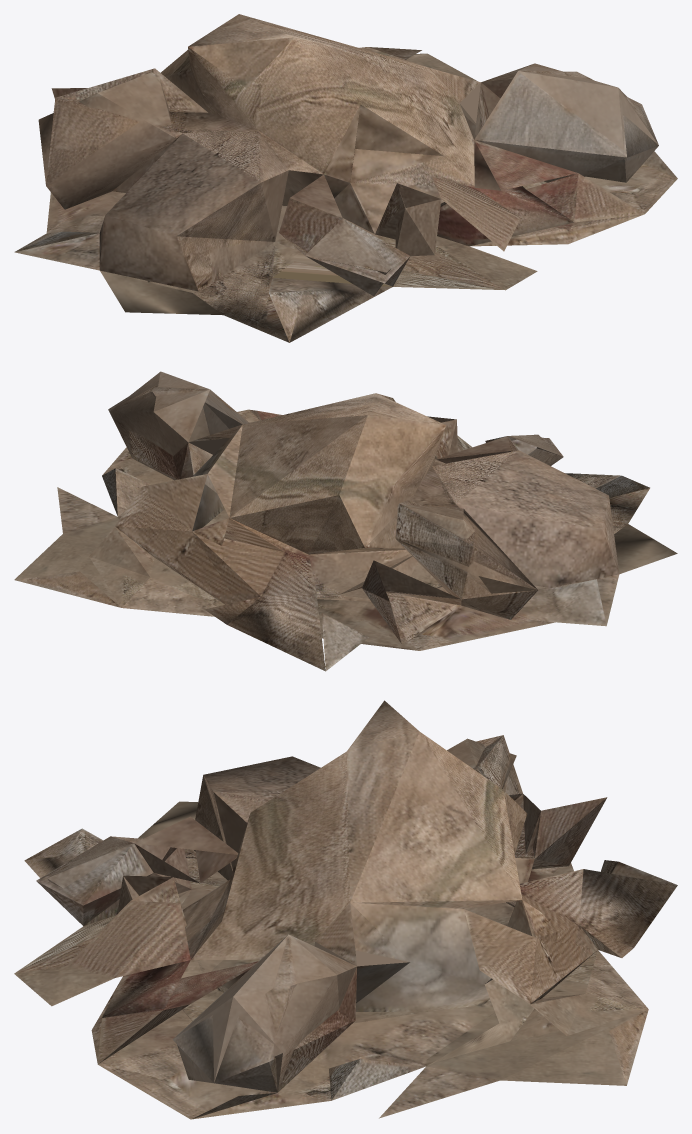
Rendered from trash.fbx.
3 renders of one model, top to bottom at view 1: azimuth 30°, elevation 25°; view 2: azimuth 150°, elevation 25°; view 3: azimuth 270°, elevation 25°, orthographic. The views are drawn at different scales.
Parts seen in each view (by area): view 1: Mesh_0; view 2: Mesh_0; view 3: Mesh_0.
Part boxes in pixels (bbox=[...]): Mesh_0: bbox=[14, 14, 677, 342]; Mesh_0: bbox=[14, 371, 677, 671]; Mesh_0: bbox=[14, 700, 677, 1119].
Size of the model in its own units: 181 by 52.13 by 157.
1 material, 1 textured.
